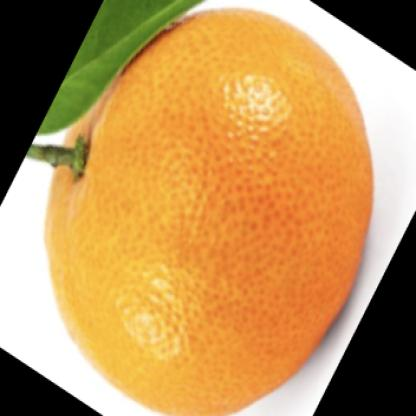fresh: (47, 9, 373, 416)
